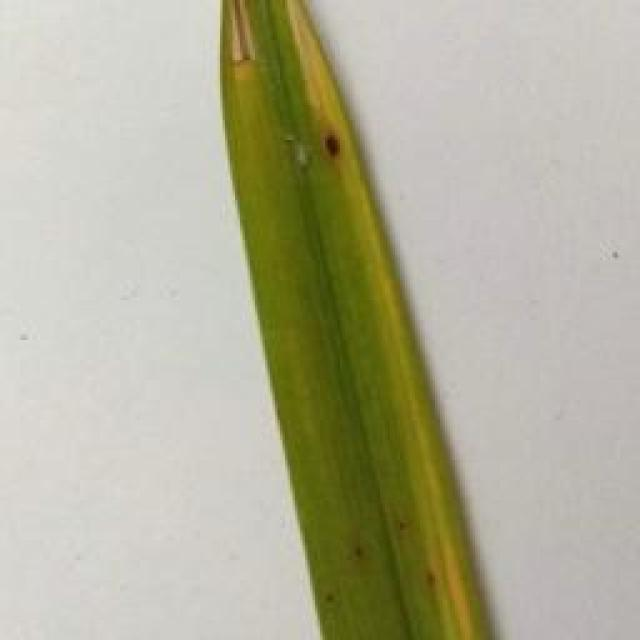Brown_Spot: (315, 124, 354, 171), (413, 560, 448, 608), (338, 537, 378, 570), (312, 582, 348, 608), (387, 508, 418, 538)
